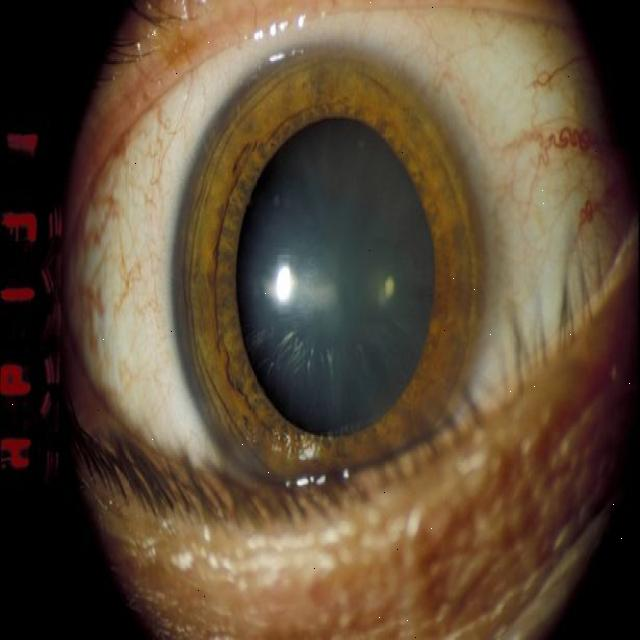Cataract: (172, 47, 489, 522)
